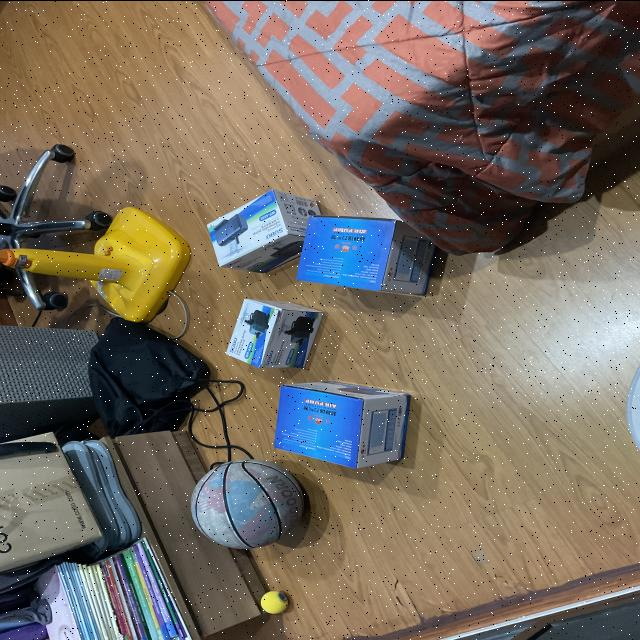SOBO_WP_4200: (192, 180, 324, 286), (215, 295, 331, 375)
YAMANO_LPP_20: (274, 205, 471, 308), (270, 376, 426, 476)
